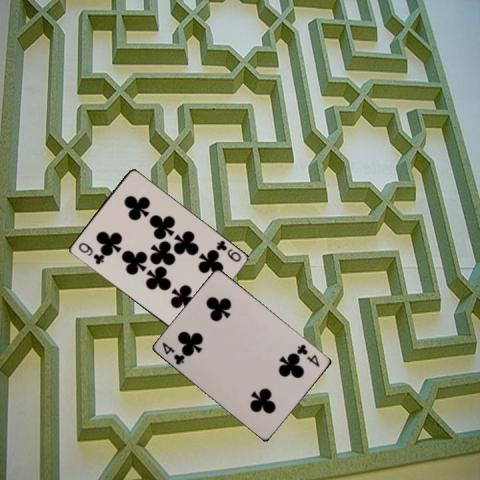4c: (159, 339, 187, 366), (294, 341, 321, 368)
9c: (212, 237, 242, 264), (75, 240, 105, 266)
